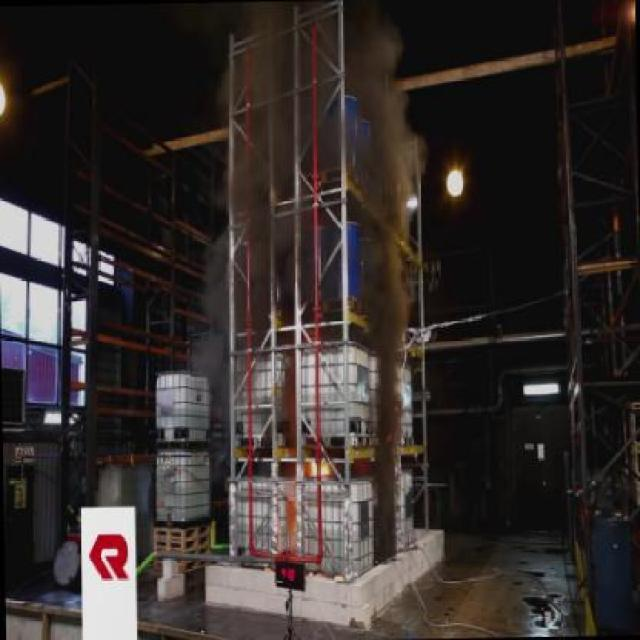fire: (168, 2, 254, 424), (355, 4, 433, 441)
